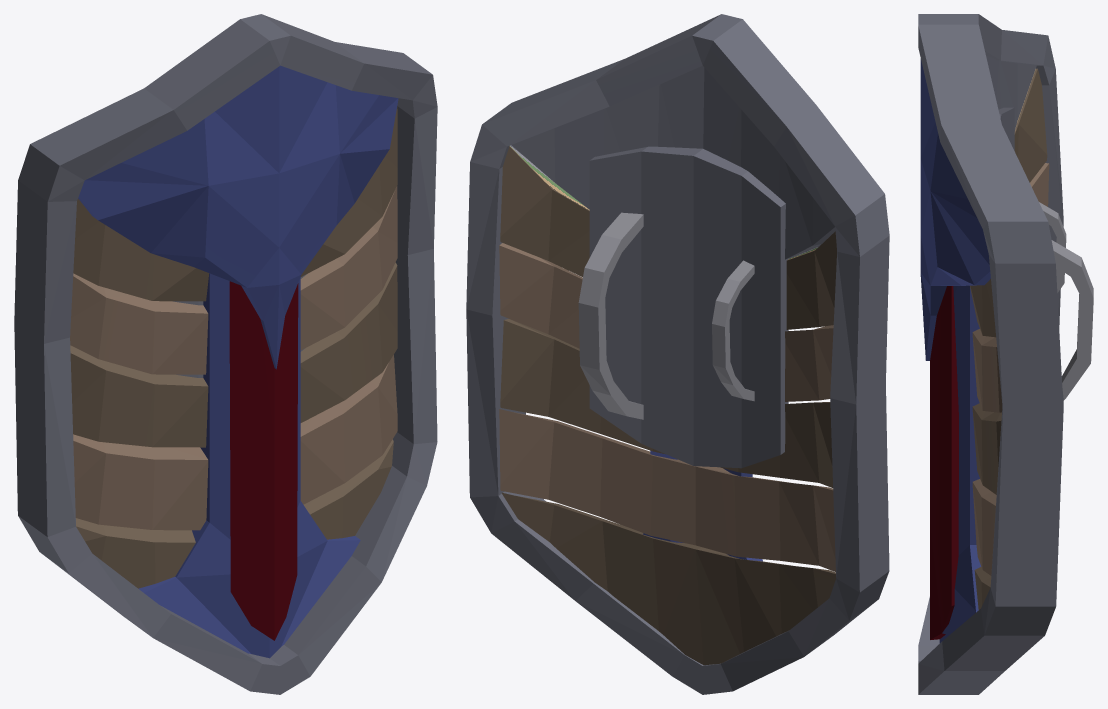
Rendered from shield_shield_15.glb.
The picture shows the model from 3 angles, left to right: view 1: azimuth 30°, elevation 25°; view 2: azimuth 150°, elevation 25°; view 3: azimuth 270°, elevation 25°; orthographic projection. The views are drawn at different scales.
Parts seen in each view (by area): view 1: shield_15; view 2: shield_15; view 3: shield_15.
Part boxes in pixels (x1=…): shield_15: x1=14, y1=14, x2=437, y2=694; shield_15: x1=466, y1=14, x2=889, y2=694; shield_15: x1=918, y1=14, x2=1093, y2=694.
Bounding box in the file's own units: 59.73 × 96.13 × 22.77.
1 material, 1 textured.
